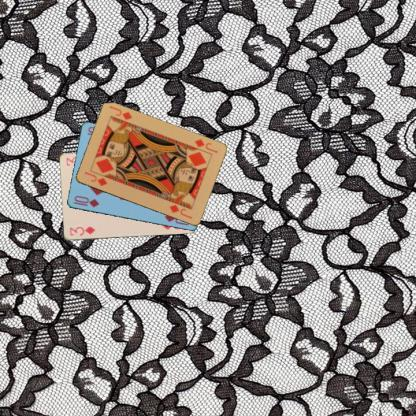10d: (71, 193, 100, 209)
3d: (67, 223, 96, 237)
Jd: (82, 169, 108, 187), (192, 136, 218, 154)
